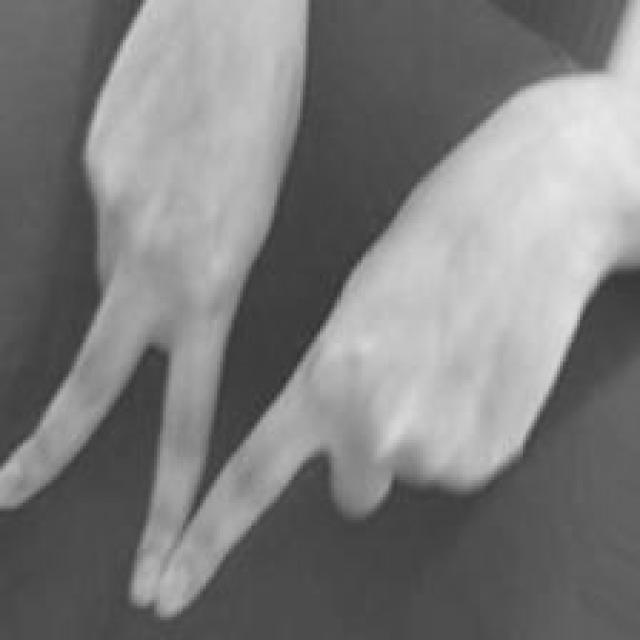N: (0, 96, 619, 616)
